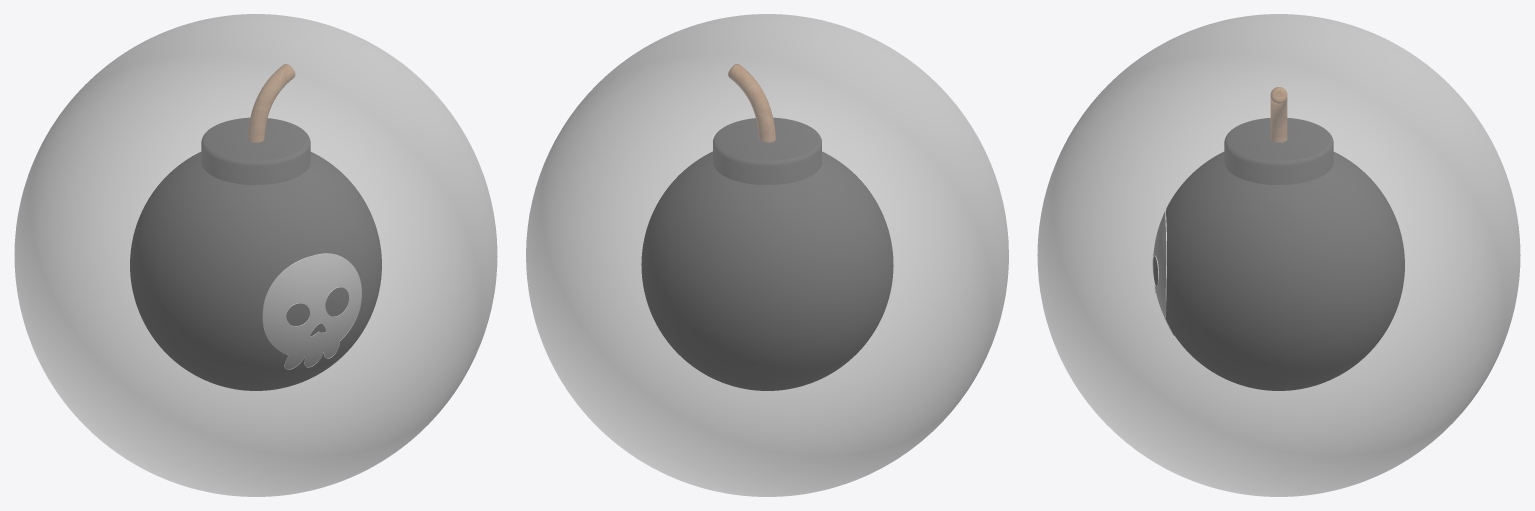
The model's file is 폭탄아이템4.fbx.
3 views of the same model, side by side, from view 1: azimuth 30°, elevation 25°; view 2: azimuth 150°, elevation 25°; view 3: azimuth 270°, elevation 25° (orthographic).
Visible parts, largest first — view 1: 개체_13, 개체_5, 개체_4, 개체_12, 개체_11, 개체_1; view 2: 개체_13, 개체_5, 개체_12, 개체_11; view 3: 개체_13, 개체_5, 개체_12, 개체_11, 개체_4.
Part boxes in pixels (box(x1,y1,x2,y2)): 개체_13: box(14, 14, 497, 496); 개체_5: box(130, 152, 381, 390); 개체_4: box(263, 253, 361, 369); 개체_12: box(201, 117, 310, 184); 개체_11: box(247, 64, 295, 142); 개체_1: box(325, 287, 348, 316); 개체_13: box(526, 14, 1008, 496); 개체_5: box(641, 151, 893, 390); 개체_12: box(713, 117, 821, 184); 개체_11: box(728, 64, 775, 142); 개체_13: box(1037, 14, 1520, 496); 개체_5: box(1165, 152, 1404, 390); 개체_12: box(1224, 118, 1333, 184); 개체_11: box(1270, 87, 1287, 142); 개체_4: box(1153, 211, 1166, 317).
Size of the model in its own units: 575 by 575 by 575.
Materials: 5 (1 with a texture image).
